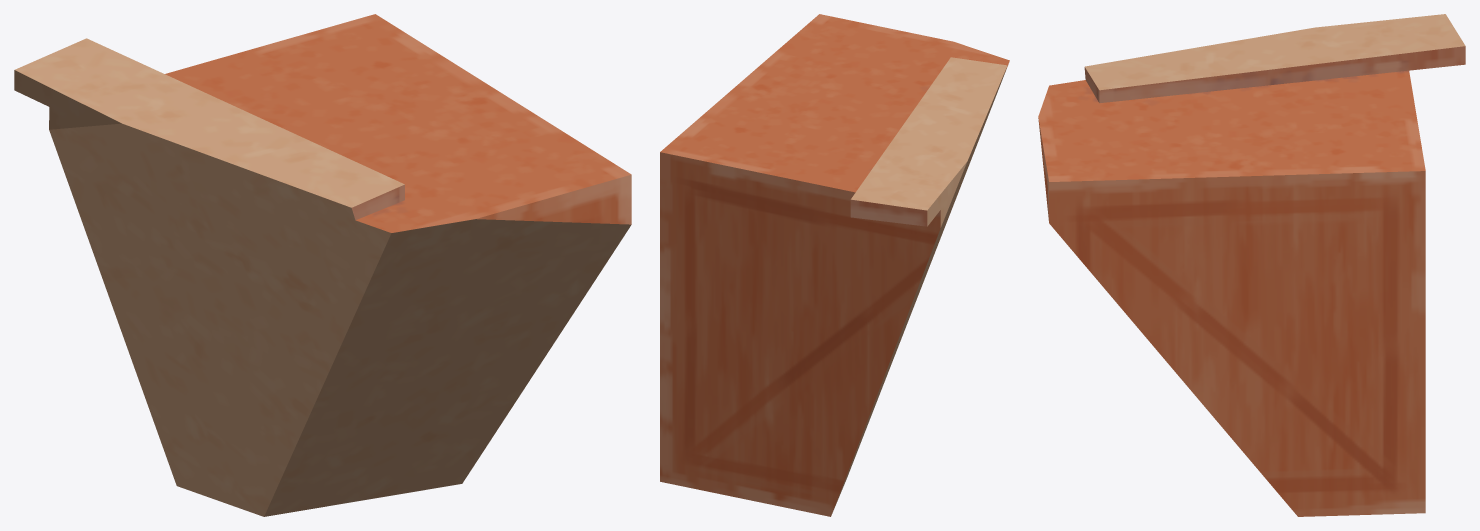
File: stack_crates_s04.fbx
3 views of the same model, side by side, from view 1: azimuth 30°, elevation 25°; view 2: azimuth 150°, elevation 25°; view 3: azimuth 270°, elevation 25° (orthographic). The views are drawn at different scales.
Parts seen in each view (by area): view 1: stack_crates_s04; view 2: stack_crates_s04; view 3: stack_crates_s04.
Part boxes in pixels (<box>): stack_crates_s04: <box>14,14,631,516</box>; stack_crates_s04: <box>660,14,1009,516</box>; stack_crates_s04: <box>1038,14,1465,516</box>.
Size of the model in its own units: 2.85 by 3.16 by 3.4.
